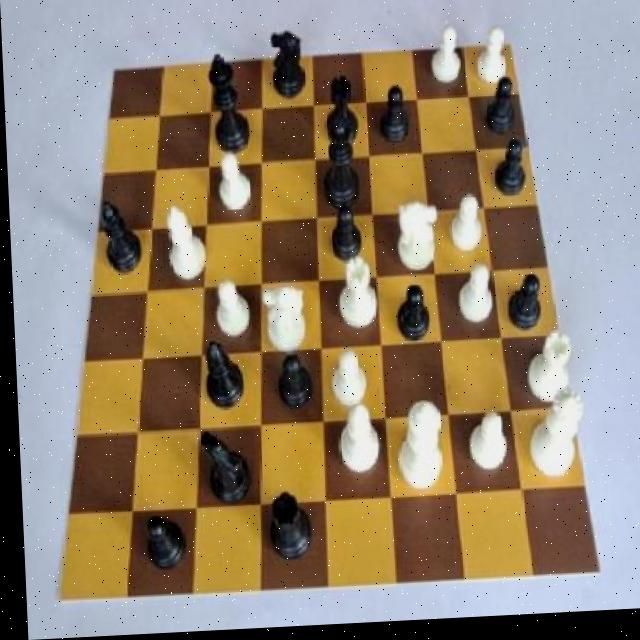bishop: (90, 198, 142, 286), (201, 334, 249, 424)
black-bishop: (199, 54, 262, 165)
black-king: (189, 422, 248, 513), (263, 24, 313, 106)
black-knight: (132, 508, 188, 579), (495, 269, 546, 345), (386, 278, 432, 352), (267, 351, 315, 418), (489, 144, 536, 212), (320, 204, 366, 272), (373, 83, 413, 157), (477, 78, 520, 145)
black-pawn: (314, 116, 364, 223)
black-queen: (259, 487, 312, 566), (311, 76, 362, 157)
black-rook: (328, 401, 380, 487), (160, 200, 207, 286)
white-bishop: (385, 390, 444, 495)
white-king: (253, 275, 308, 362), (387, 196, 440, 286)
white-knight: (457, 408, 508, 481), (323, 344, 371, 418), (440, 198, 489, 270), (210, 149, 254, 225), (207, 272, 252, 344), (423, 21, 466, 96), (472, 20, 513, 98), (451, 267, 495, 334)
white-pawn: (522, 383, 585, 494)
white-queen: (517, 327, 571, 411), (330, 253, 377, 337)
